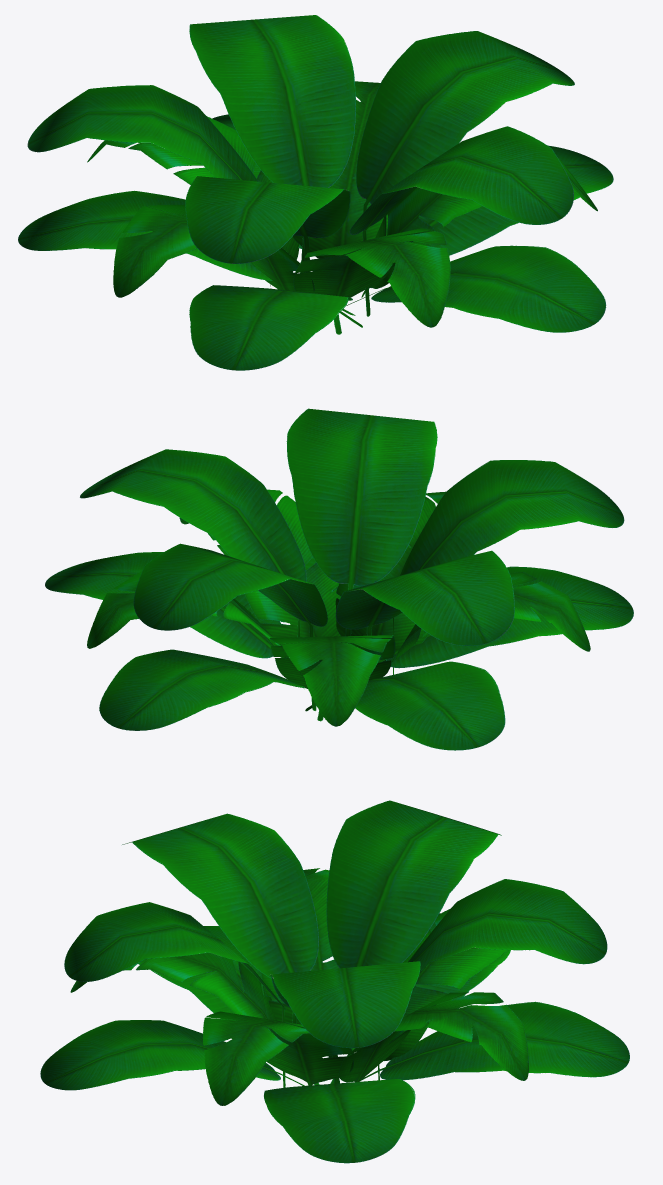
File: PR_Bush_Tall.fbx
3 renders of one model, top to bottom at view 1: azimuth 30°, elevation 25°; view 2: azimuth 150°, elevation 25°; view 3: azimuth 270°, elevation 25°, orthographic. The views are drawn at different scales.
Parts seen in each view (by area): view 1: Palm Leaf.040, Palm Leaf.042, Palm Leaf.041; view 2: Palm Leaf.040, Palm Leaf.042, Palm Leaf.041; view 3: Palm Leaf.040, Palm Leaf.042, Palm Leaf.041.
Part boxes in pixels (box(x1,y1,x2,y2)): Palm Leaf.040: box(27, 15, 574, 316); Palm Leaf.042: box(18, 114, 613, 370); Palm Leaf.041: box(87, 81, 597, 327); Palm Leaf.040: box(80, 408, 624, 710); Palm Leaf.042: box(45, 545, 633, 750); Palm Leaf.041: box(87, 489, 590, 726); Palm Leaf.040: box(64, 800, 607, 1087); Palm Leaf.042: box(40, 913, 629, 1163); Palm Leaf.041: box(70, 868, 528, 1105).
Bounding box in the file's own units: 1499 × 556 × 1531.
